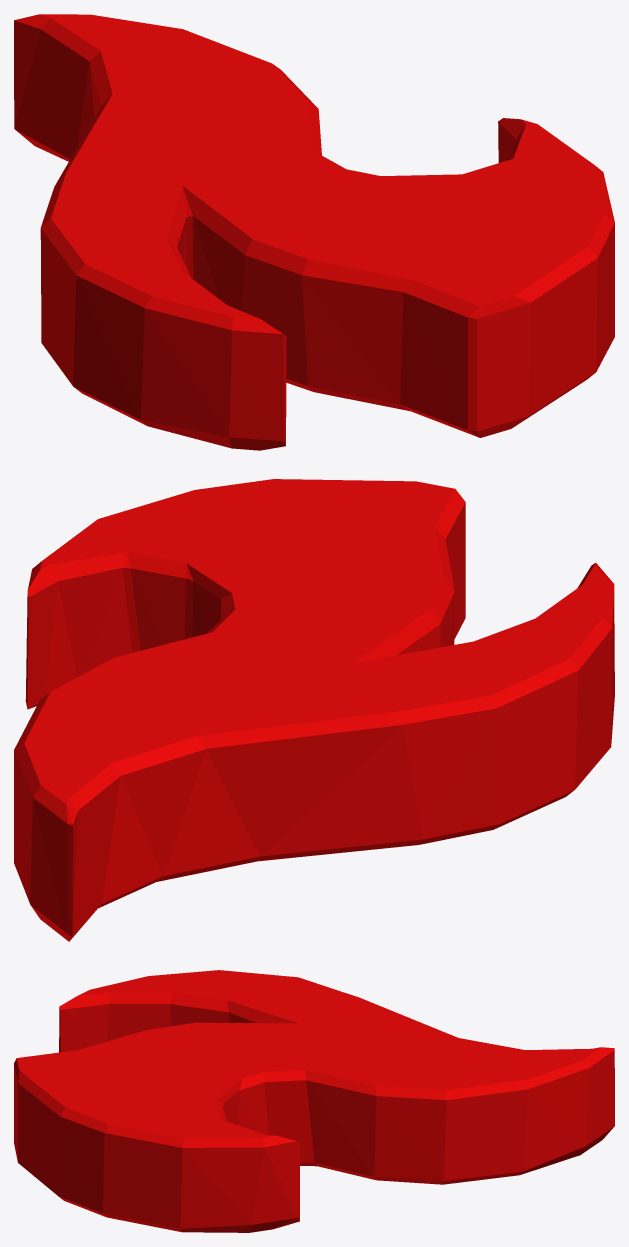
File: Feuer_simple_lp.fbx
3 views of the same model, one above another, from view 1: azimuth 30°, elevation 25°; view 2: azimuth 150°, elevation 25°; view 3: azimuth 270°, elevation 25° (orthographic). The views are drawn at different scales.
Parts seen in each view (by area): view 1: path179; view 2: path179; view 3: path179.
Boxes of the visible parts, box(x1,y1,x2,y2) form: path179: box(14, 14, 614, 450); path179: box(14, 479, 614, 941); path179: box(14, 970, 614, 1232).
Size of the model in its own units: 5.98 by 1.5 by 8.69.
